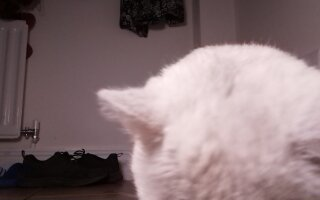bad: (92, 38, 320, 196)
